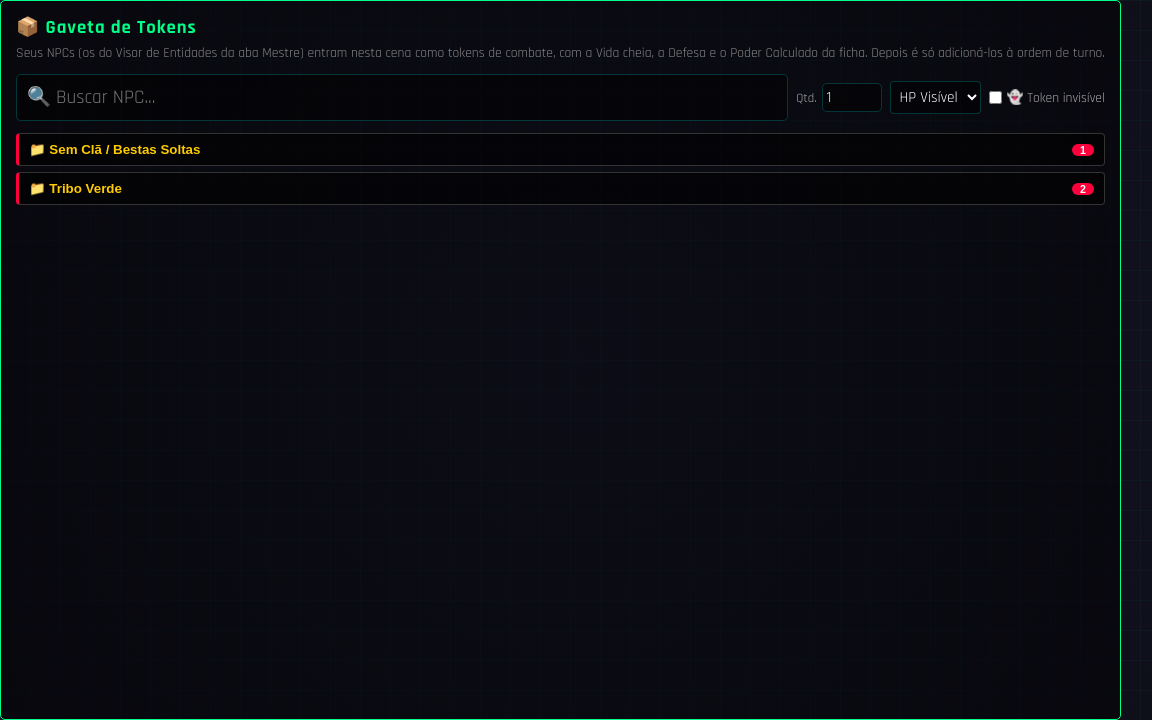
Test case: Gaveta de Tokens - lista de NPCs por familia › clicar na familia expande e mostra seus NPCs em ordem alfabetica
Click the button "📁 Tribo Verde 2" at (86, 188), box x1=16 y1=172 x2=1105 y2=205
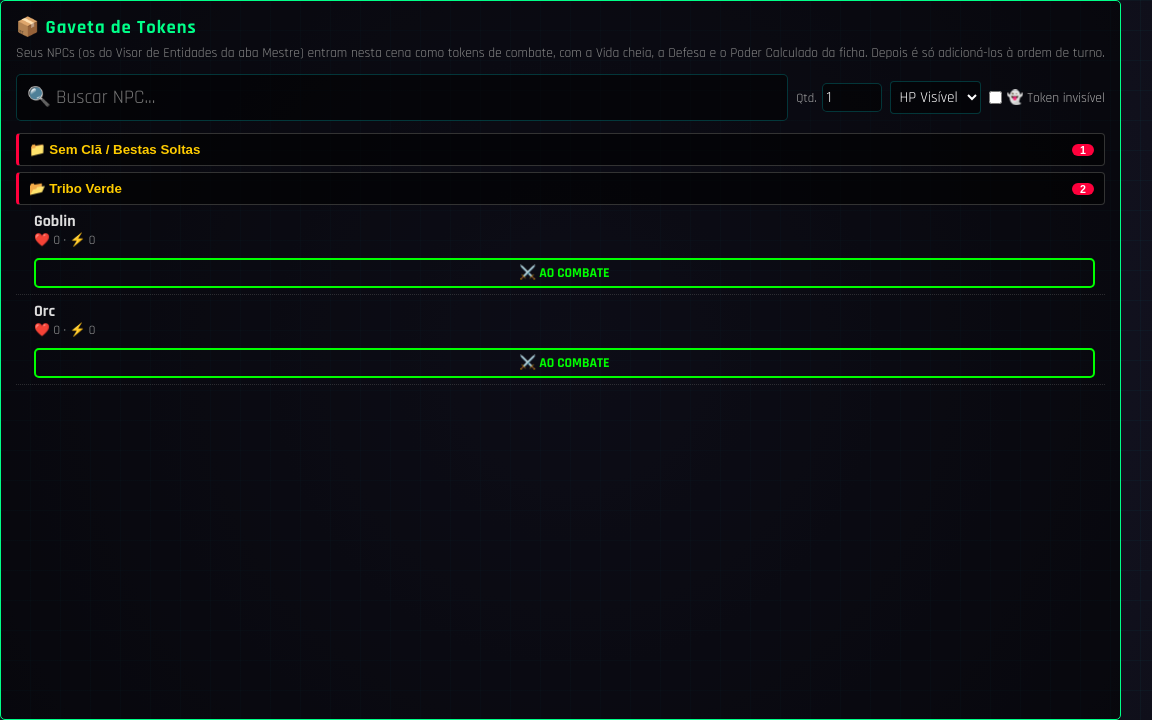
Result: the text "Goblin" is shown at x1=34 y1=211 x2=76 y2=232
Result: the text "Orc" is shown at x1=34 y1=301 x2=55 y2=322
Result: the number of buttons "⚔️ Ao combate" is 2 at x1=34 y1=258 x2=1095 y2=288; x1=34 y1=348 x2=1095 y2=378
